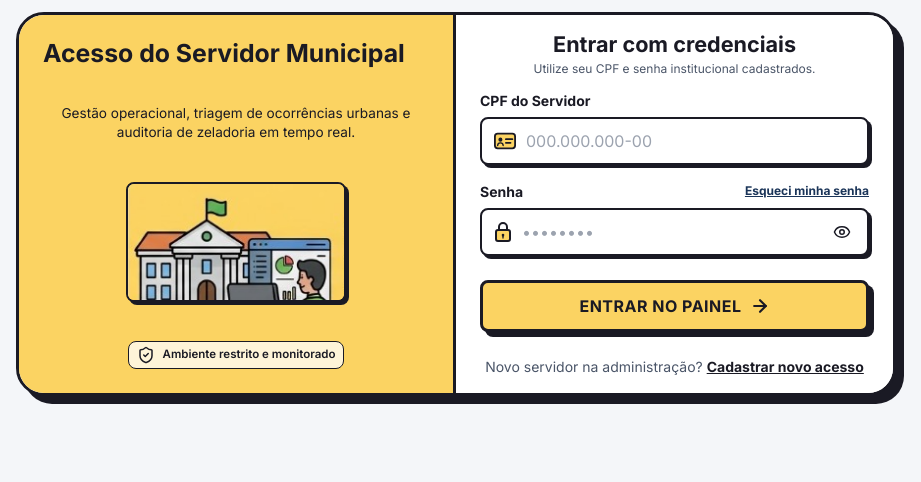
Página LoginPrefeitura (/login/prefeitura) › deve exibir mensagem de erro se CPF for inválido no envio
Step 1. Type "123" into the field labelled "CPF do Servidor" → (690, 141), box [526,119,855,163]
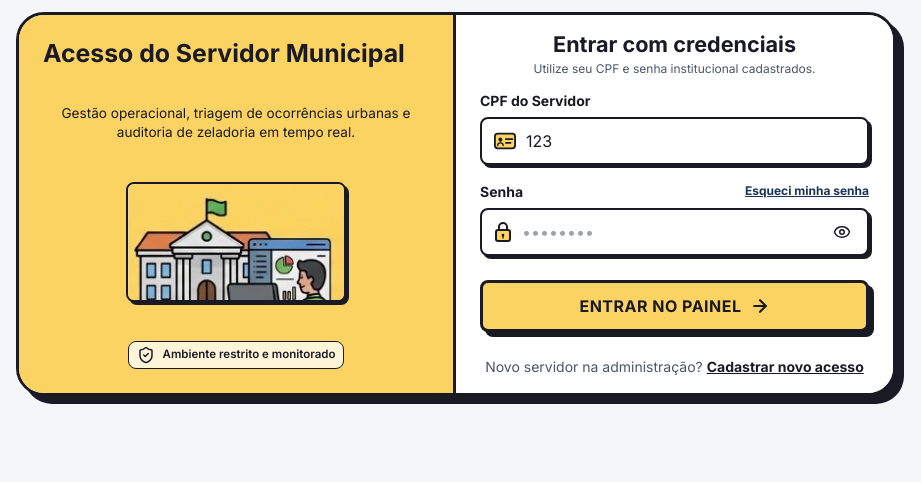
Step 2. Click the button with aria-label "Acessar o painel da prefeitura" → (674, 306), box [480,280,869,332]
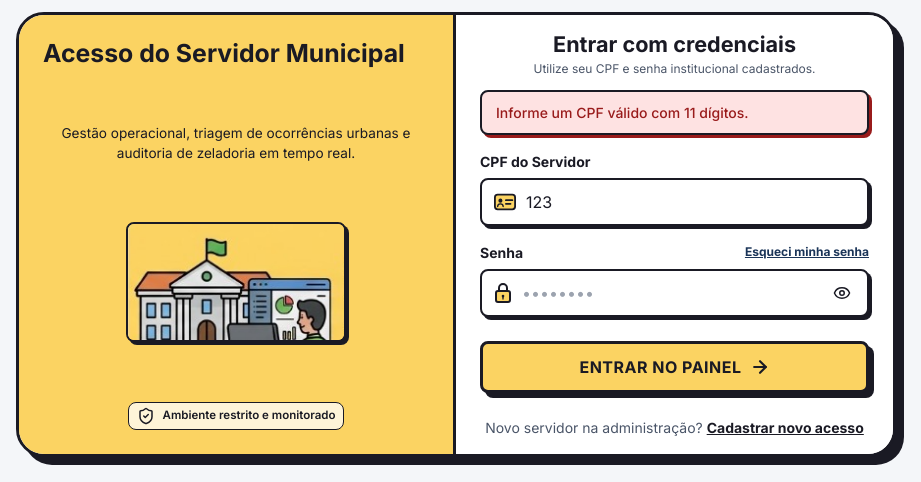
Expected: the text "Informe um CPF válido com 11 dígitos." is shown, [480,90,869,135]
